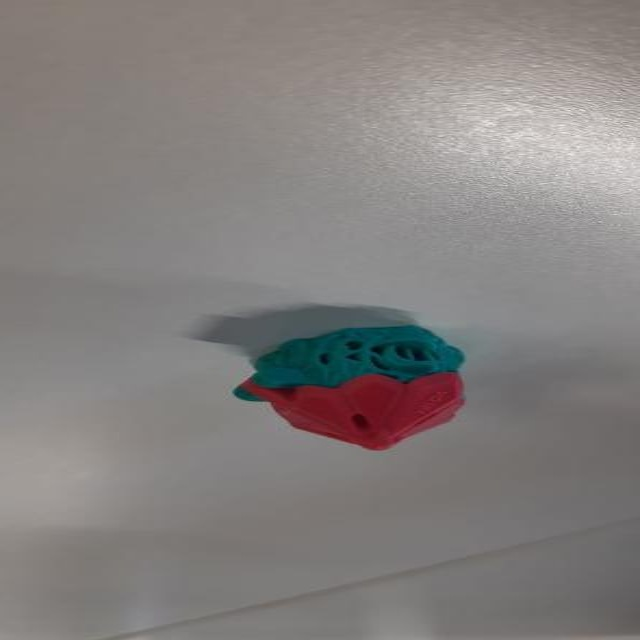House: (231, 321, 472, 454)
